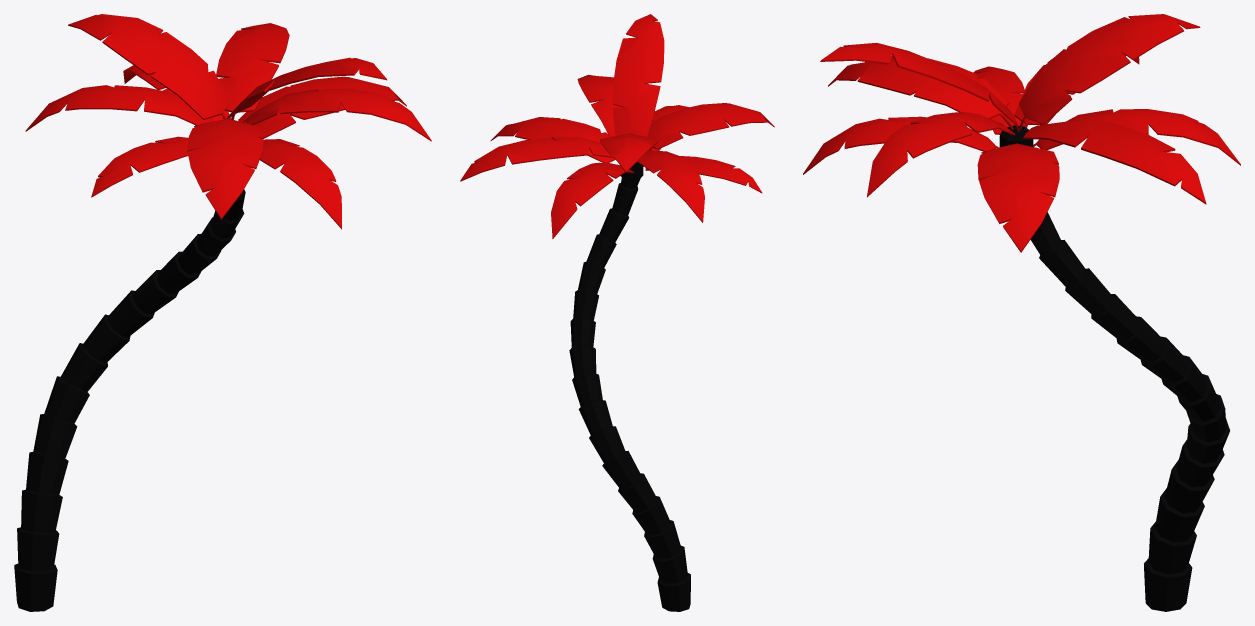
The model's file is PalmTree_05.fbx.
The picture shows the model from 3 angles, left to right: view 1: azimuth 30°, elevation 25°; view 2: azimuth 150°, elevation 25°; view 3: azimuth 270°, elevation 25°; orthographic projection. The views are drawn at different scales.
Parts seen in each view (by area): view 1: PalmTree; view 2: PalmTree; view 3: PalmTree.
Boxes of the visible parts, bbox=[...] form: PalmTree: bbox=[14, 14, 431, 611]; PalmTree: bbox=[460, 14, 774, 611]; PalmTree: bbox=[803, 14, 1240, 611].
Bounding box in the file's own units: 47620 × 82460 × 50253.
